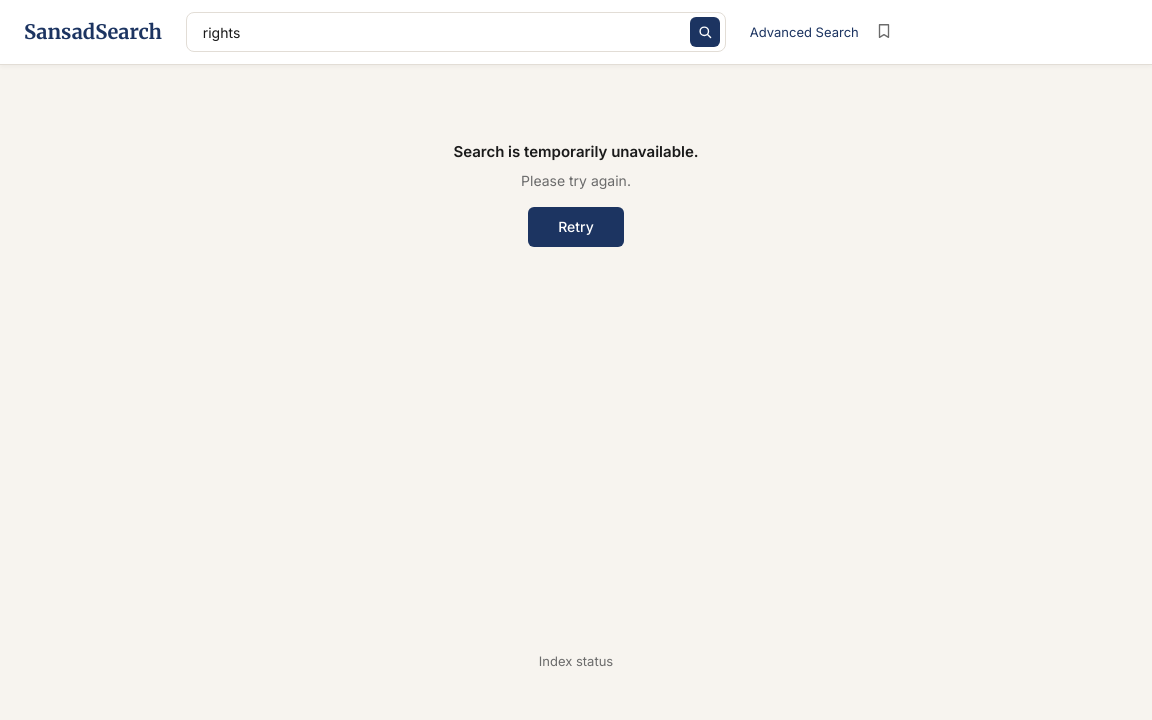
Test: Results — error and retry › Retry re-issues the fetch
Expected: the element with test id "error-state" is shown, [453,142,699,247]
Click the button with test id "retry-button" at (576, 227), box [528,207,624,247]
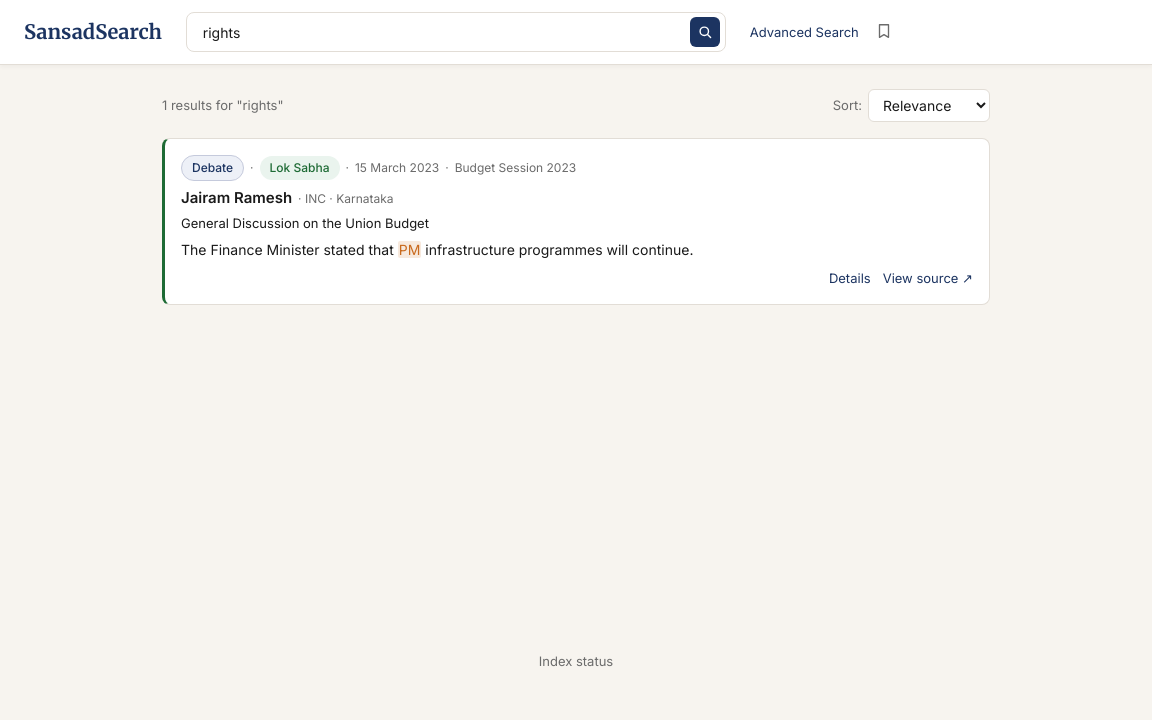
Expected: the element with test id "results-list" is shown, [162,138,990,305]
